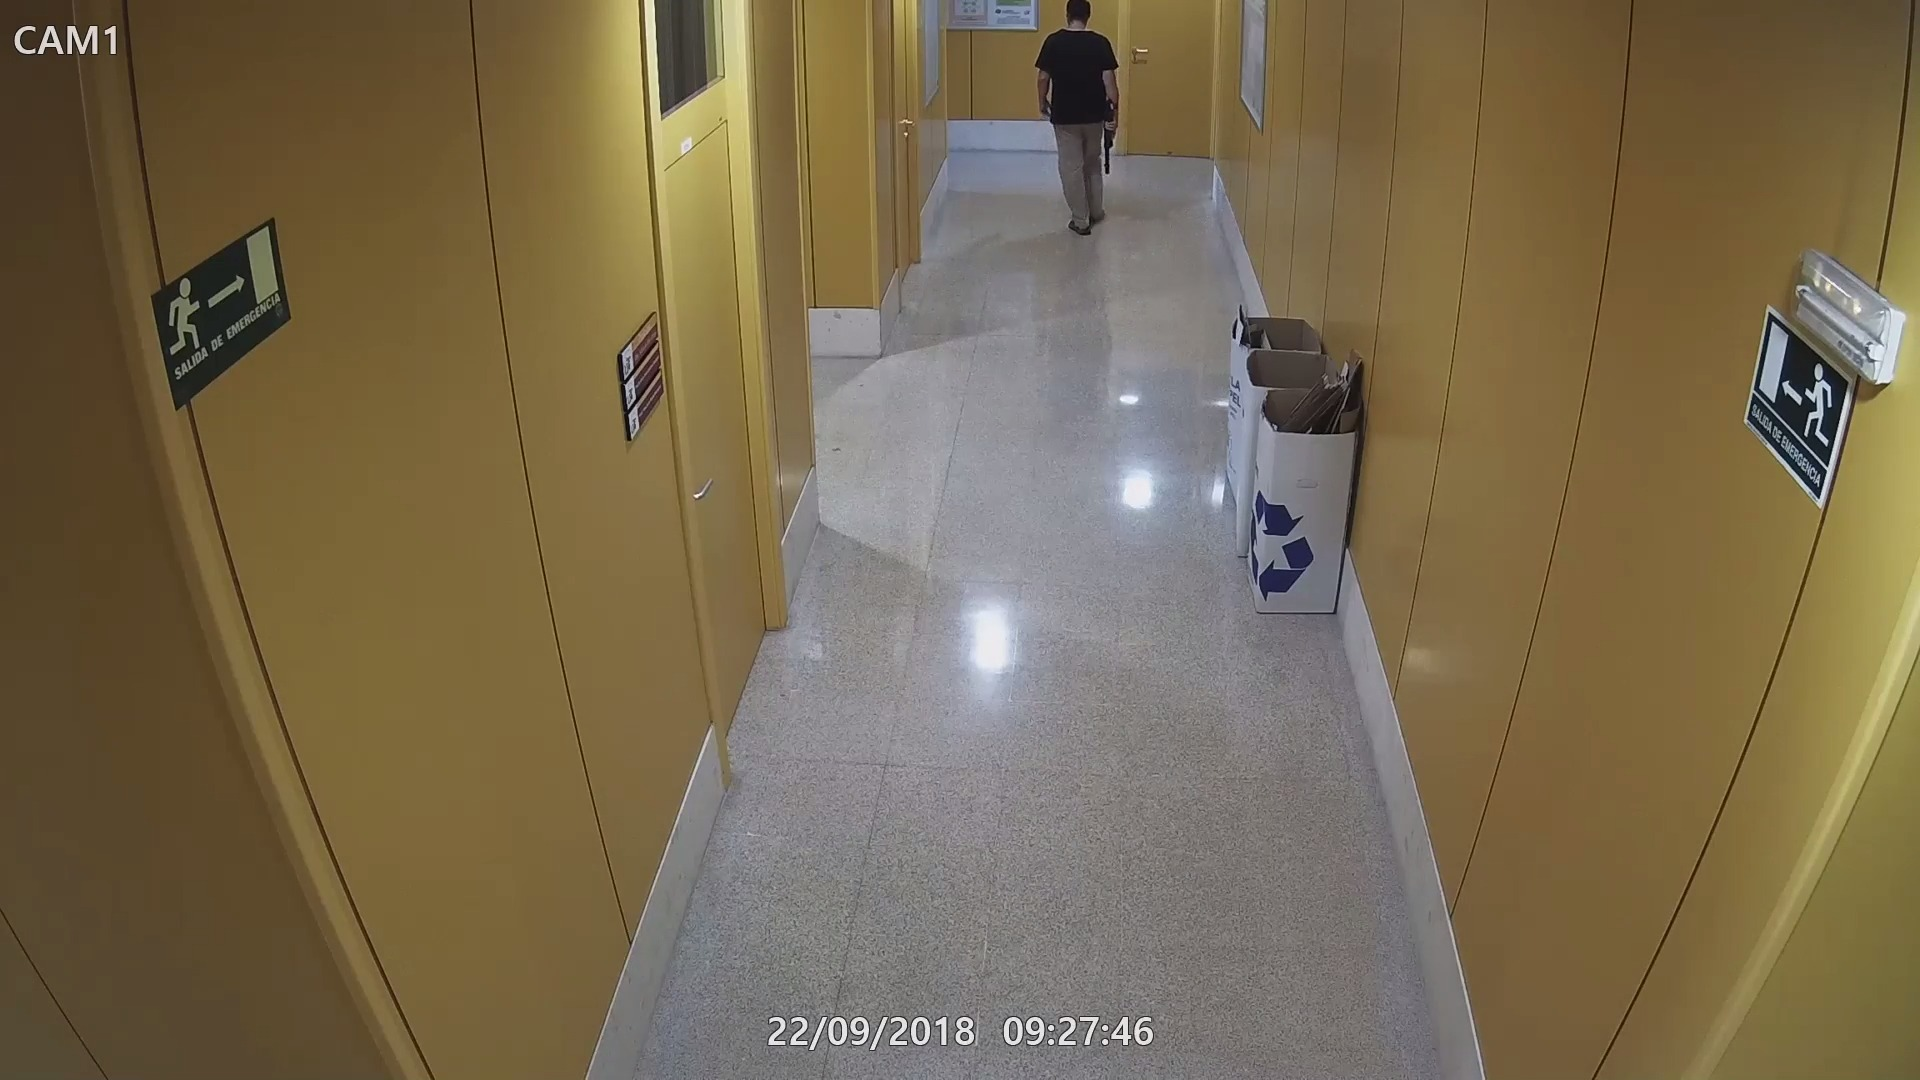Short_rifle: (1095, 102, 1121, 173)
